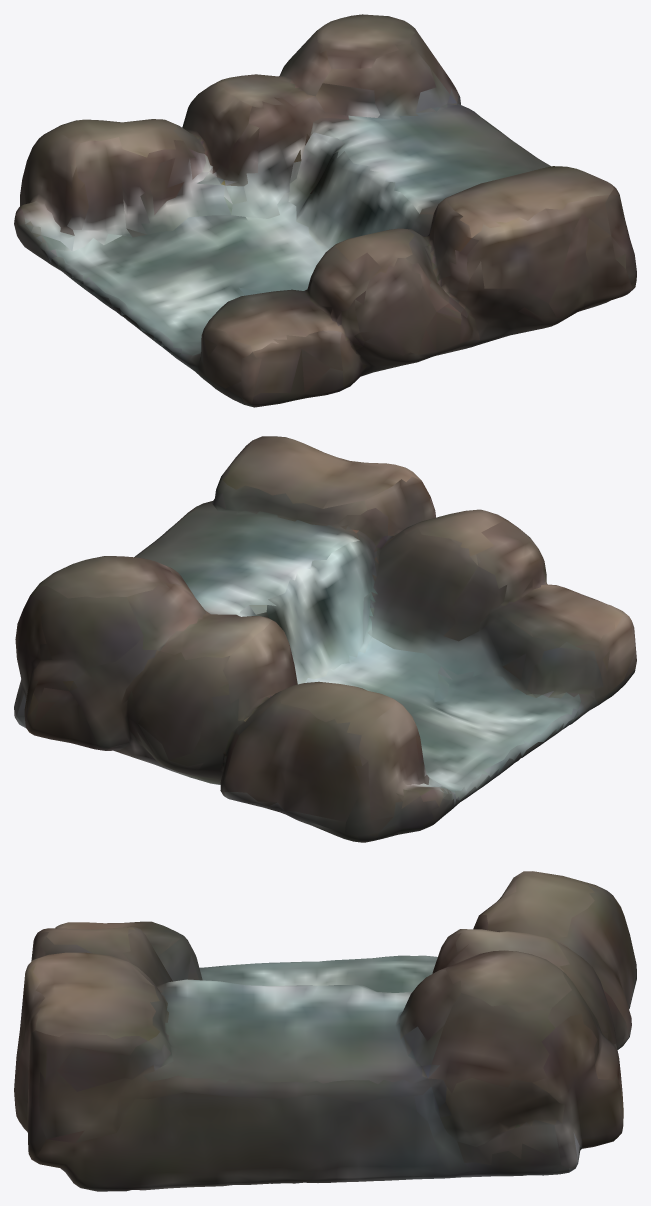
The model's file is m30_corredeira_pedras.glb.
3 views of the same model, one above another, from view 1: azimuth 30°, elevation 25°; view 2: azimuth 150°, elevation 25°; view 3: azimuth 270°, elevation 25° (orthographic). The views are drawn at different scales.
Parts seen in each view (by area): view 1: m30_corredeira_pedras; view 2: m30_corredeira_pedras; view 3: m30_corredeira_pedras.
Part boxes in pixels (x1,y1,x2,y2): m30_corredeira_pedras: [14, 14, 636, 407]; m30_corredeira_pedras: [14, 436, 636, 842]; m30_corredeira_pedras: [14, 871, 636, 1191].
Bounding box in the file's own units: 0.9677 × 0.3766 × 1.1.
Materials: 1 (1 with a texture image).
